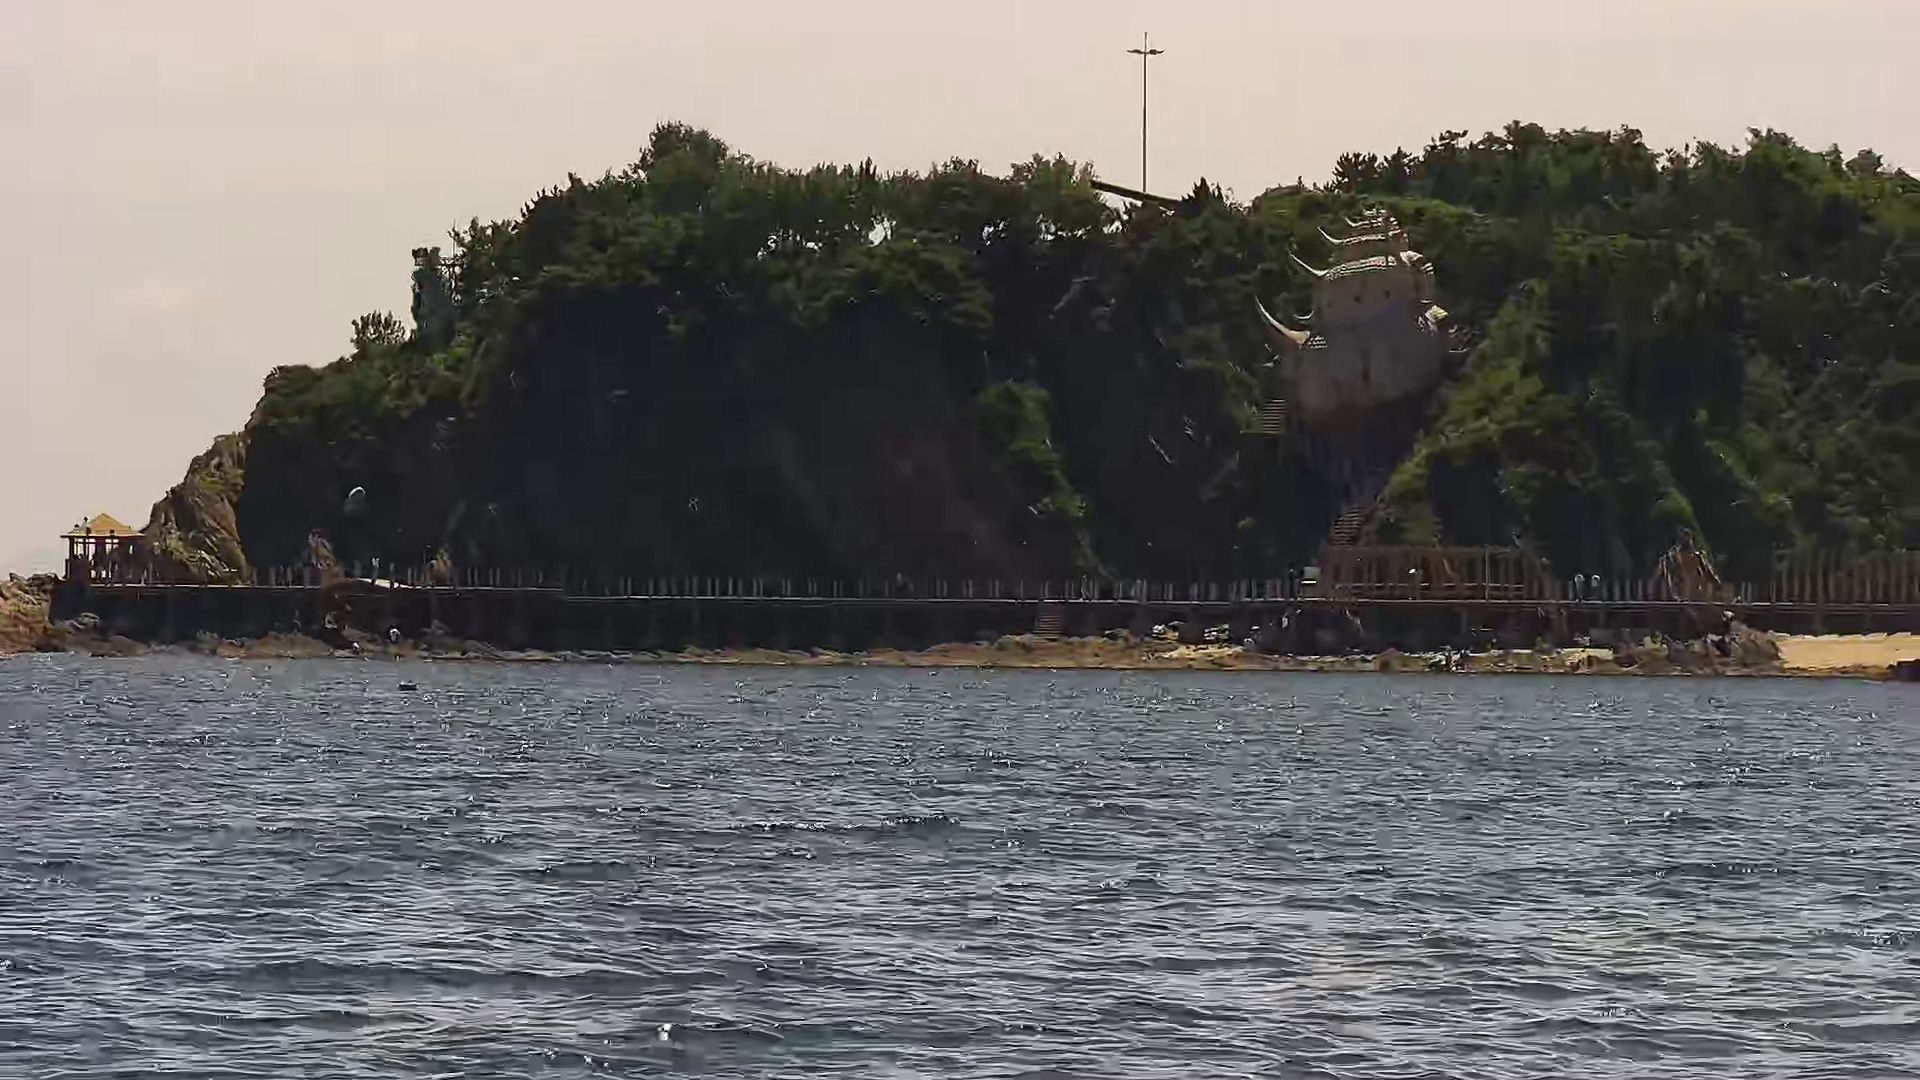rubbish: (389, 669, 425, 691)
